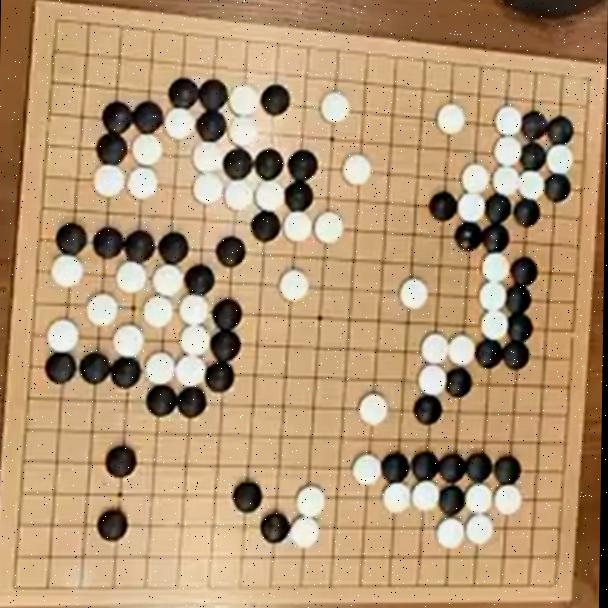corners: (34, 3, 80, 43), (0, 566, 45, 600), (538, 562, 571, 603), (569, 68, 605, 100)
